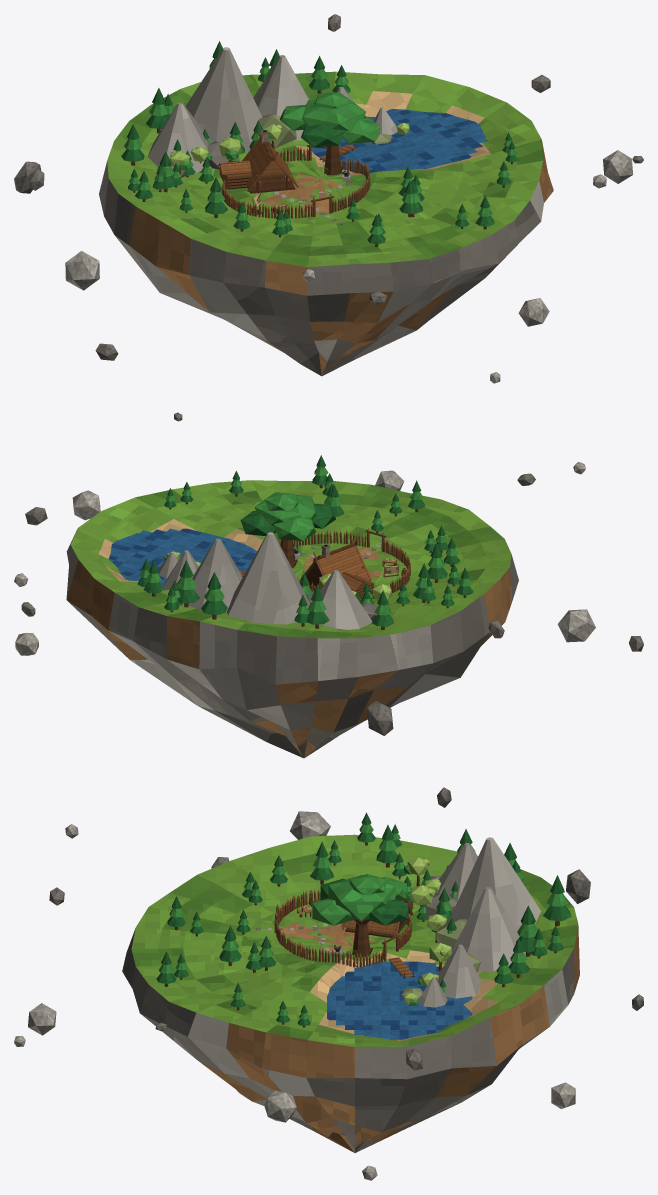
File: viking_island.glb
3 views of the same model, one above another, from view 1: azimuth 30°, elevation 25°; view 2: azimuth 150°, elevation 25°; view 3: azimuth 270°, elevation 25° (orthographic). The views are drawn at different scales.
Parts seen in each view (by area): view 1: Island_Terrain, MountainRange, Lake.001, Peepal.001, House_Roof.001, VIRock.02, House_Annex.001, VIRock.00, House_Walls.001, VIRock.04, Pine.126, Pine.151; view 2: Island_Terrain, MountainRange, Lake.001, Peepal.001, House_Roof.001, VIRock.02, VIRock.07, Pine.155, VIRock.00, Pine.120, Pine.126; view 3: Island_Terrain, MountainRange, Lake.001, Peepal.001, VIRock.02, VIRock.00, Pine.155, VIRock.04, VIRock.07, Pine.120.
Part boxes in pixels (left/top/right/bottom): Island_Terrain: left=99, top=71, right=553, bottom=376; MountainRange: left=148, top=47, right=397, bottom=177; Lake.001: left=308, top=109, right=487, bottom=172; Peepal.001: left=280, top=92, right=380, bottom=175; House_Roof.001: left=242, top=134, right=297, bottom=190; VIRock.02: left=65, top=251, right=99, bottom=290; House_Annex.001: left=217, top=160, right=251, bottom=189; VIRock.00: left=603, top=150, right=633, bottom=183; House_Walls.001: left=247, top=161, right=295, bottom=193; VIRock.04: left=518, top=298, right=549, bottom=326; Pine.126: left=146, top=88, right=168, bottom=133; Pine.151: left=121, top=124, right=144, bottom=165; Island_Terrain: left=66, top=480, right=518, bottom=758; MountainRange: left=158, top=532, right=377, bottom=629; Lake.001: left=108, top=528, right=256, bottom=586; Peepal.001: left=240, top=492, right=335, bottom=567; House_Roof.001: left=299, top=542, right=371, bottom=580; VIRock.02: left=557, top=609, right=595, bottom=642; VIRock.07: left=367, top=701, right=393, bottom=735; Pine.155: left=201, top=572, right=227, bottom=619; VIRock.00: left=72, top=490, right=100, bottom=520; Pine.120: left=177, top=560, right=200, bottom=607; Pine.126: left=306, top=585, right=329, bottom=628; Island_Terrain: left=122, top=834, right=579, bottom=1152; MountainRange: left=401, top=837, right=541, bottom=1007; Lake.001: left=327, top=961, right=472, bottom=1039; Peepal.001: left=312, top=874, right=408, bottom=957; VIRock.02: left=290, top=811, right=330, bottom=839; VIRock.00: left=264, top=1090, right=296, bottom=1122; Pine.155: left=543, top=875, right=571, bottom=926; VIRock.04: left=28, top=1003, right=56, bottom=1035; VIRock.07: left=566, top=869, right=590, bottom=903; Pine.120: left=516, top=905, right=537, bottom=956.
Bounding box in the file's own units: 93.56 × 44.32 × 84.59.
Materials: 1 (1 with a texture image).
